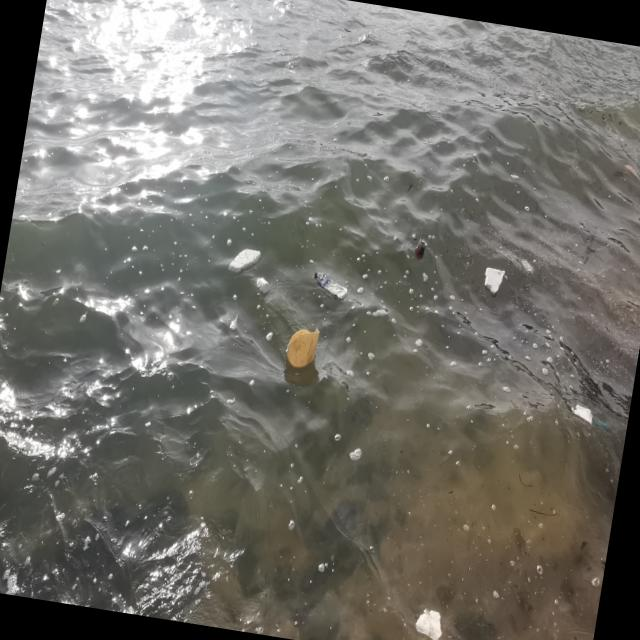can: (414, 239, 428, 262)
foam: (229, 244, 261, 278), (414, 607, 445, 640), (482, 265, 507, 297), (570, 404, 597, 426)
plastic bottle: (312, 270, 350, 301), (256, 278, 272, 295)
